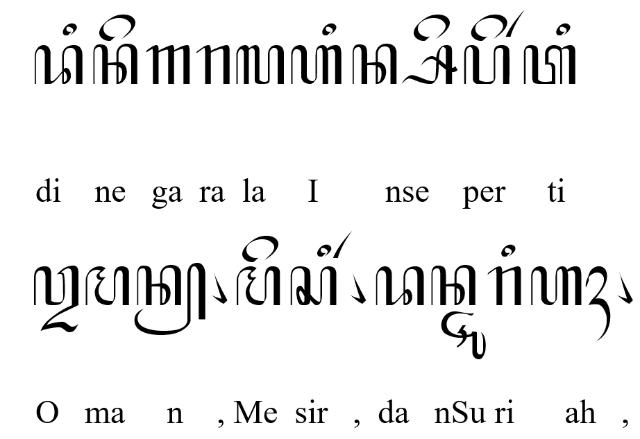-n: (134, 262, 206, 336)
O: (32, 265, 80, 333)
_Tu: (440, 312, 486, 360)
_h1: (584, 266, 612, 342)
_r1: (505, 8, 525, 38), (332, 231, 352, 259)
_s: (400, 44, 458, 86)
d: (34, 44, 84, 86), (375, 266, 425, 306)
e: (412, 14, 452, 43), (470, 13, 508, 41), (241, 235, 279, 263), (99, 15, 137, 42)
g: (146, 43, 192, 84)
h: (290, 44, 342, 86), (530, 266, 582, 306)
i: (321, 22, 337, 36), (316, 244, 332, 258), (500, 244, 516, 258), (62, 23, 78, 36), (555, 23, 571, 36)
kom: (349, 272, 366, 304), (211, 272, 227, 304), (617, 272, 633, 304)
l: (236, 44, 284, 86)
m: (85, 265, 132, 307), (236, 266, 282, 306)
n: (429, 264, 476, 306), (352, 42, 396, 86), (92, 43, 138, 85)
p: (463, 44, 511, 86)
r: (486, 266, 522, 308), (196, 44, 230, 86)
s: (290, 266, 338, 306)
t: (523, 44, 577, 86)
